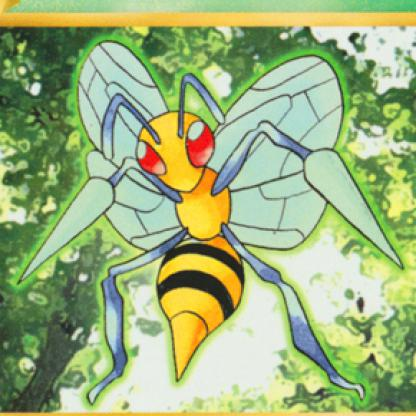Beedrill: (36, 30, 395, 402)
